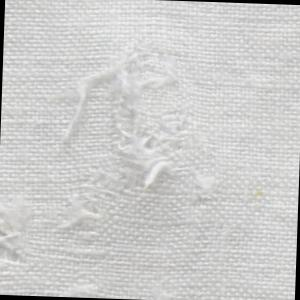Damage: (45, 36, 222, 264), (1, 213, 25, 279)
